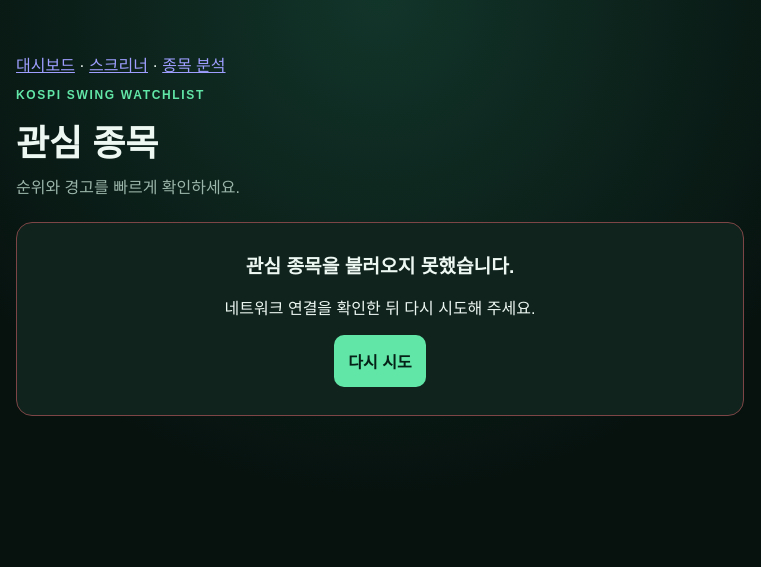
Test case: watchlist dashboard › shows a safe API error and retries
The width and height of the screenshot is (761, 567).
Click the button with aria-label "관심 종목 다시 불러오기".
click(380, 361)  # box [334,335,426,387]
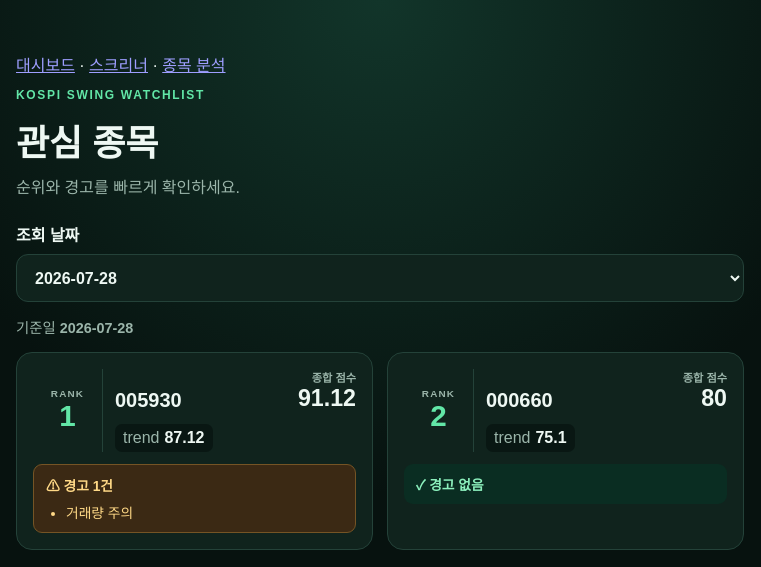
Now the heading "005930" is shown, box [115,389,182,412]
